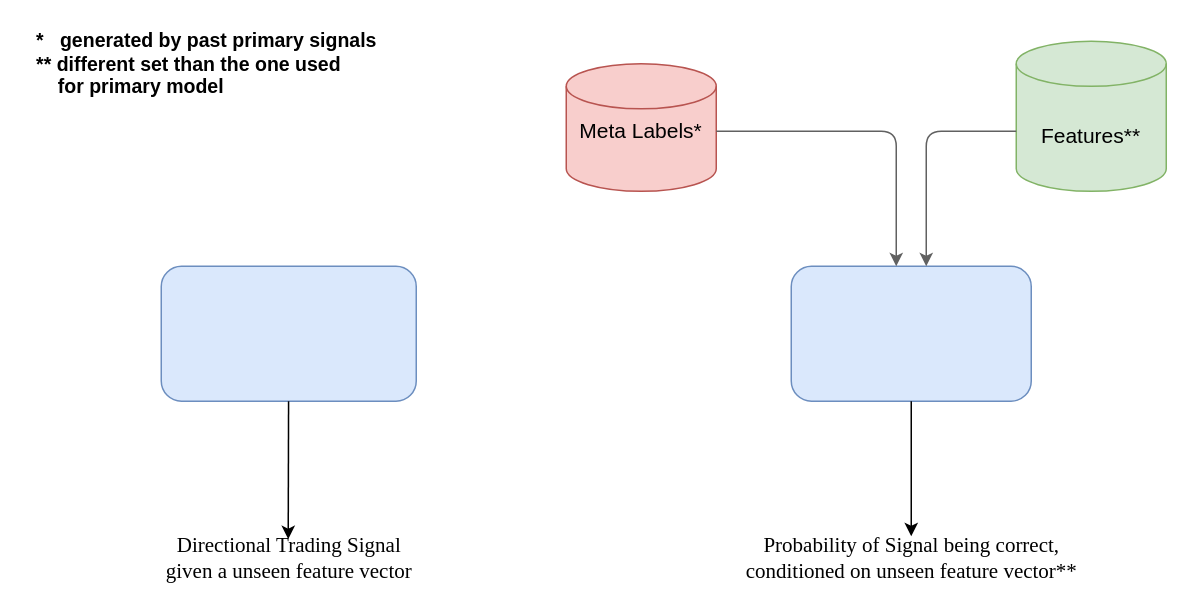
The diagram is 1193 pixels wide and 609 high, and some of its shapes have lost their labels. Each missing label, with the centre of its shape:
"Primary Model" belongs at point 288,333.
"Secondary Model" belongs at point 910,333.
